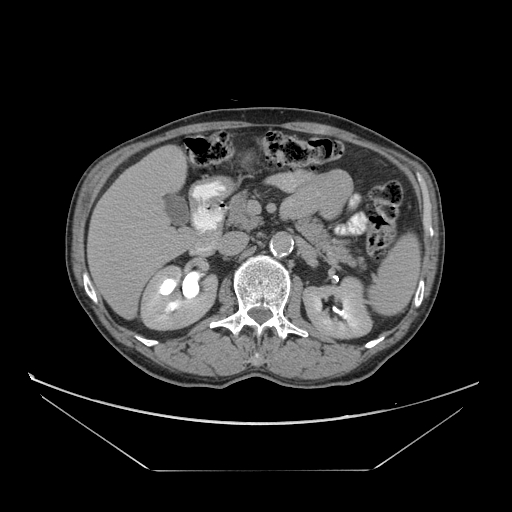left_kidney: (135, 258, 222, 335)
right_kidney: (299, 282, 378, 346)
